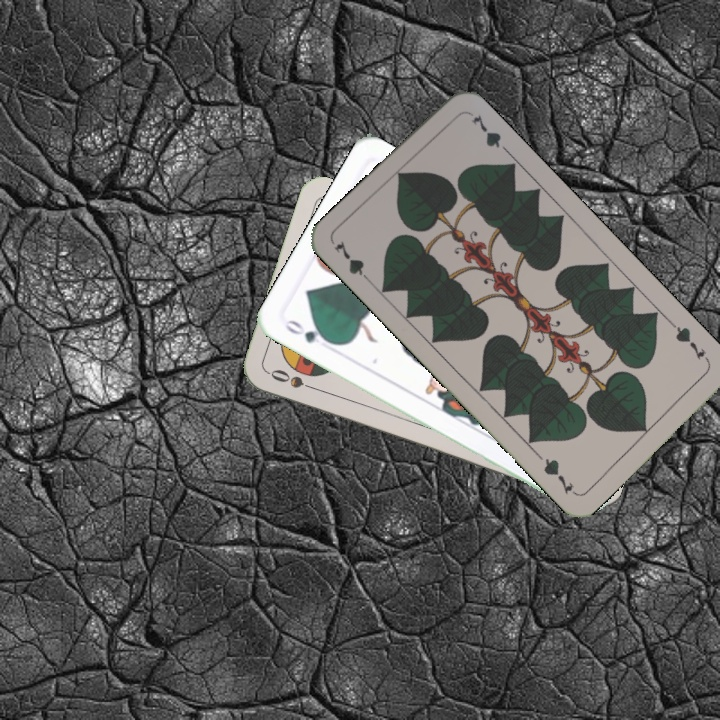G7: (330, 236, 376, 287), (667, 319, 712, 366)
GO: (280, 315, 336, 347)
SO: (265, 365, 323, 394)
